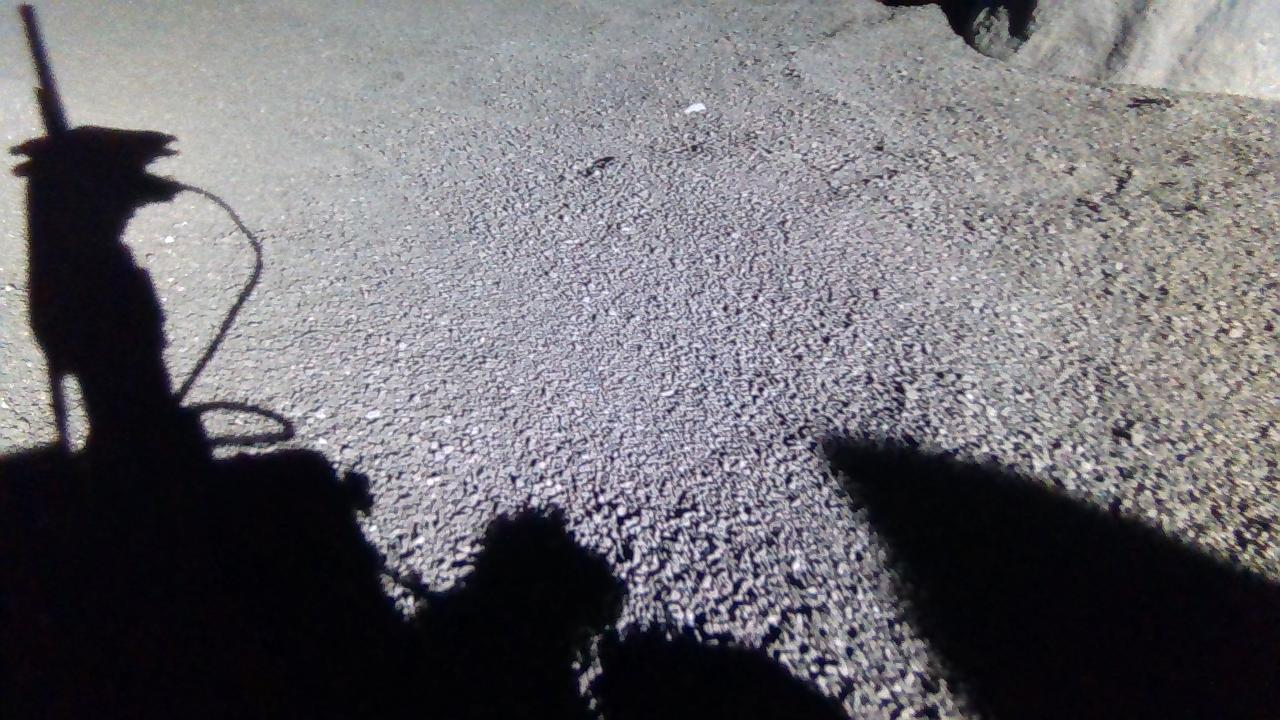rock: (973, 0, 1280, 105)
